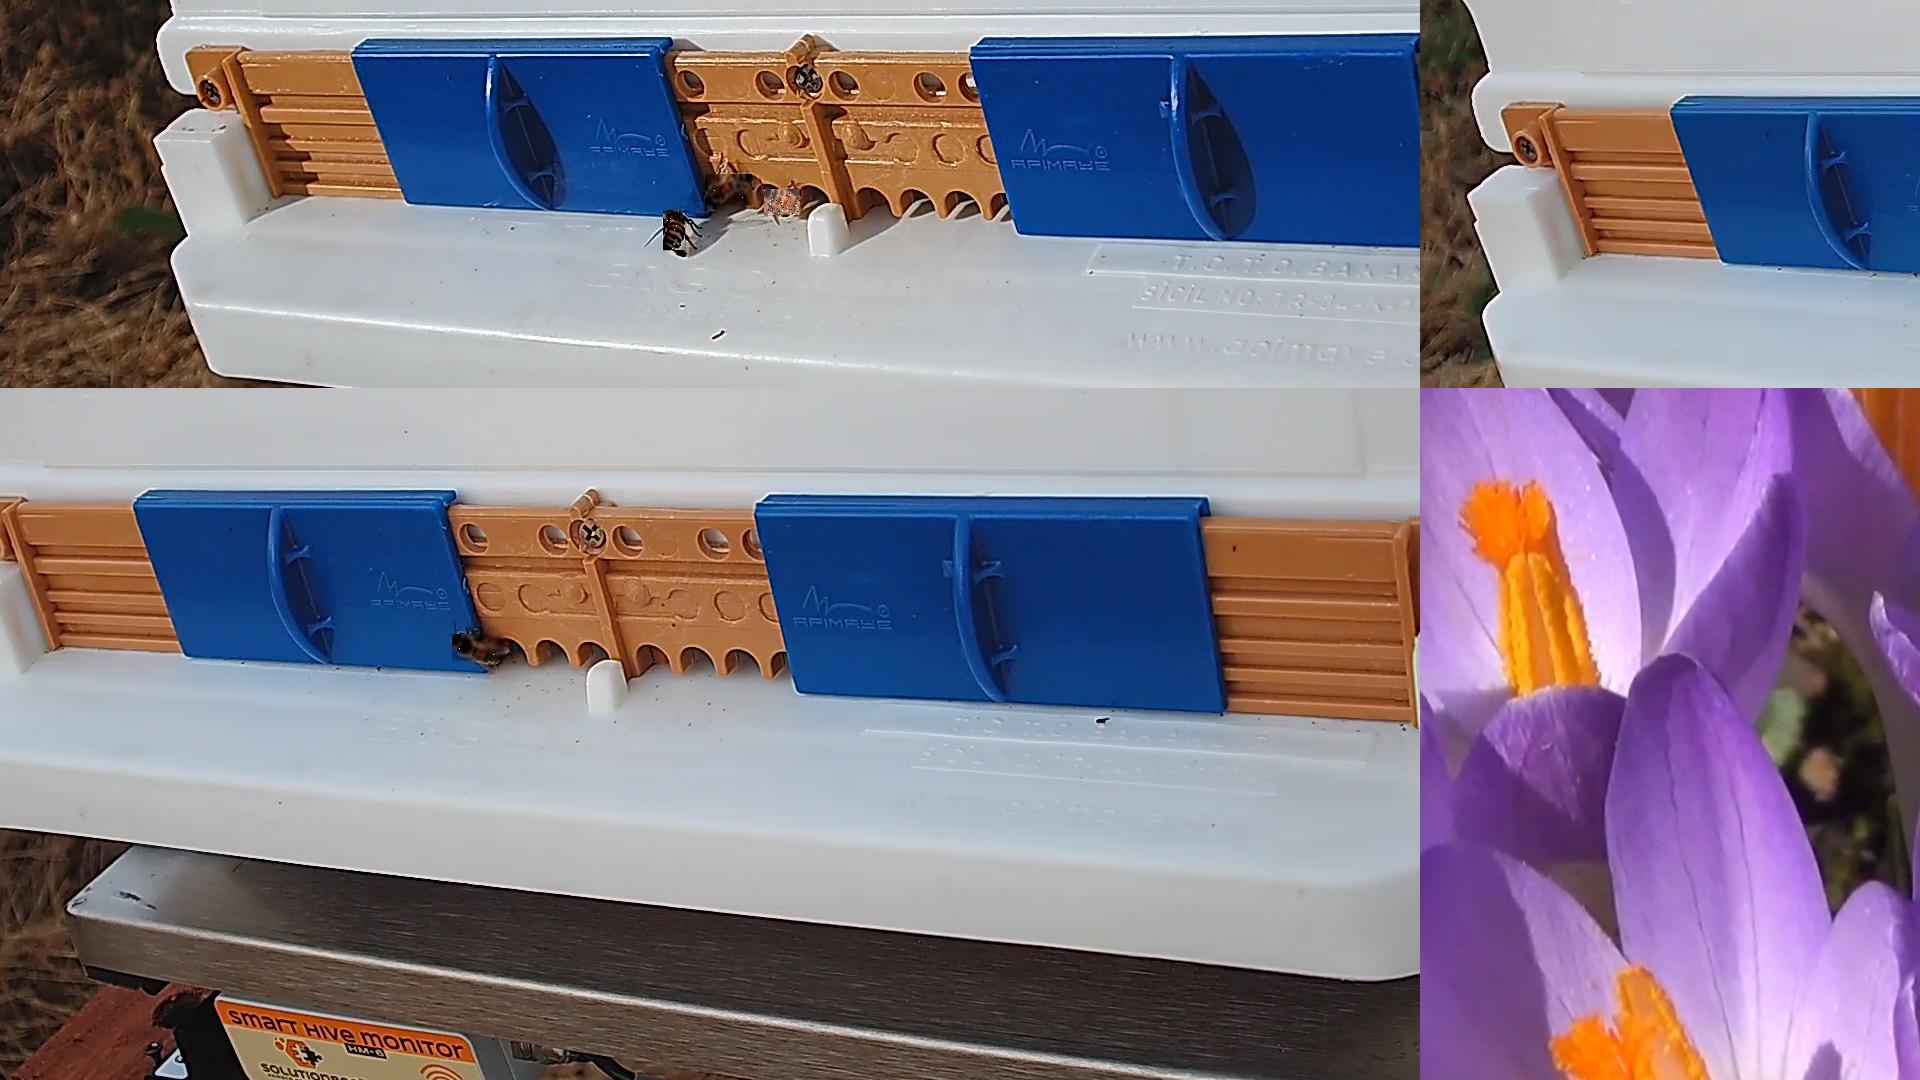bee: (705, 175, 753, 210), (454, 634, 508, 662), (665, 211, 690, 255), (764, 189, 800, 216)
